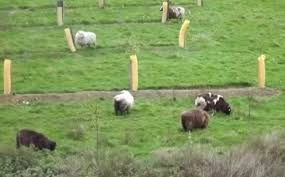sheep: (195, 87, 233, 120), (14, 128, 61, 153), (181, 109, 212, 133), (114, 87, 135, 119), (73, 28, 97, 50), (160, 3, 189, 21)
